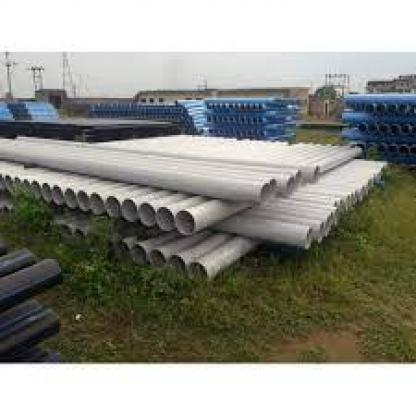PVC: (0, 92, 414, 284), (0, 244, 65, 367)
